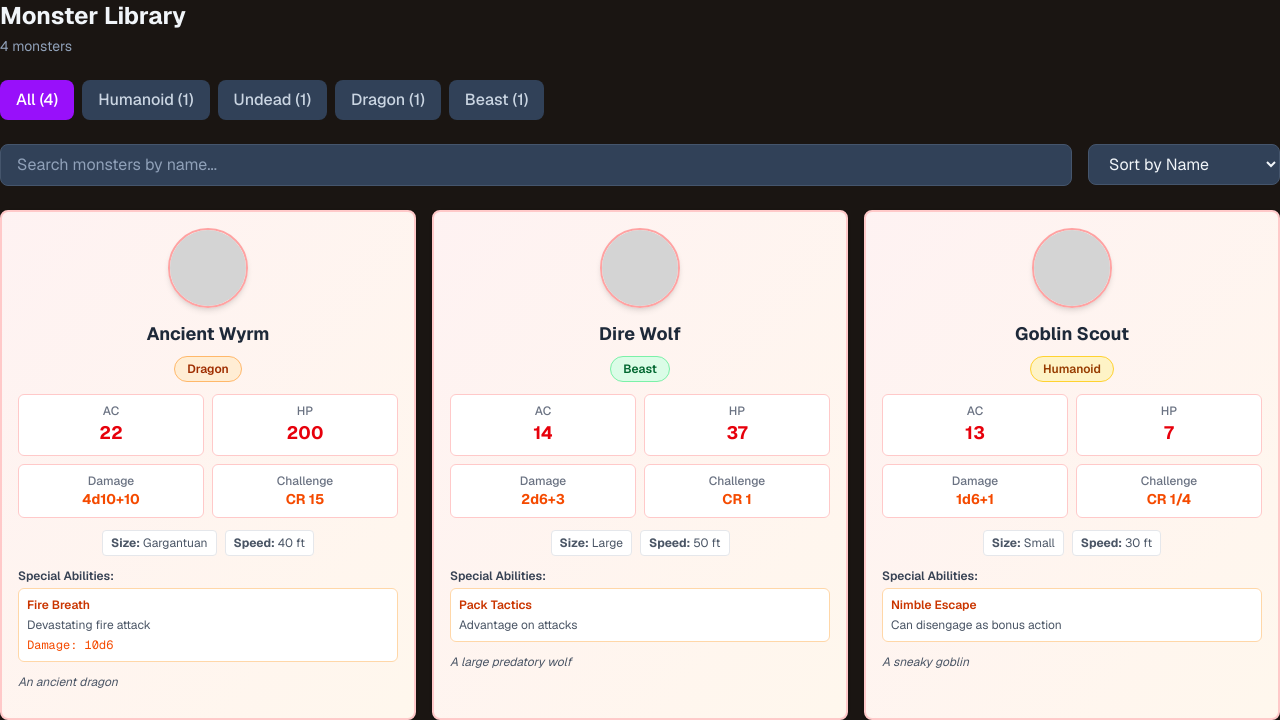
MonsterLibrary › Search Functionality › filters monsters by search query (case-insensitive)
Step 1. Type "goblin" into the field with placeholder "Search monsters by name..." → coordinates (536, 165), box [0, 144, 1072, 186]
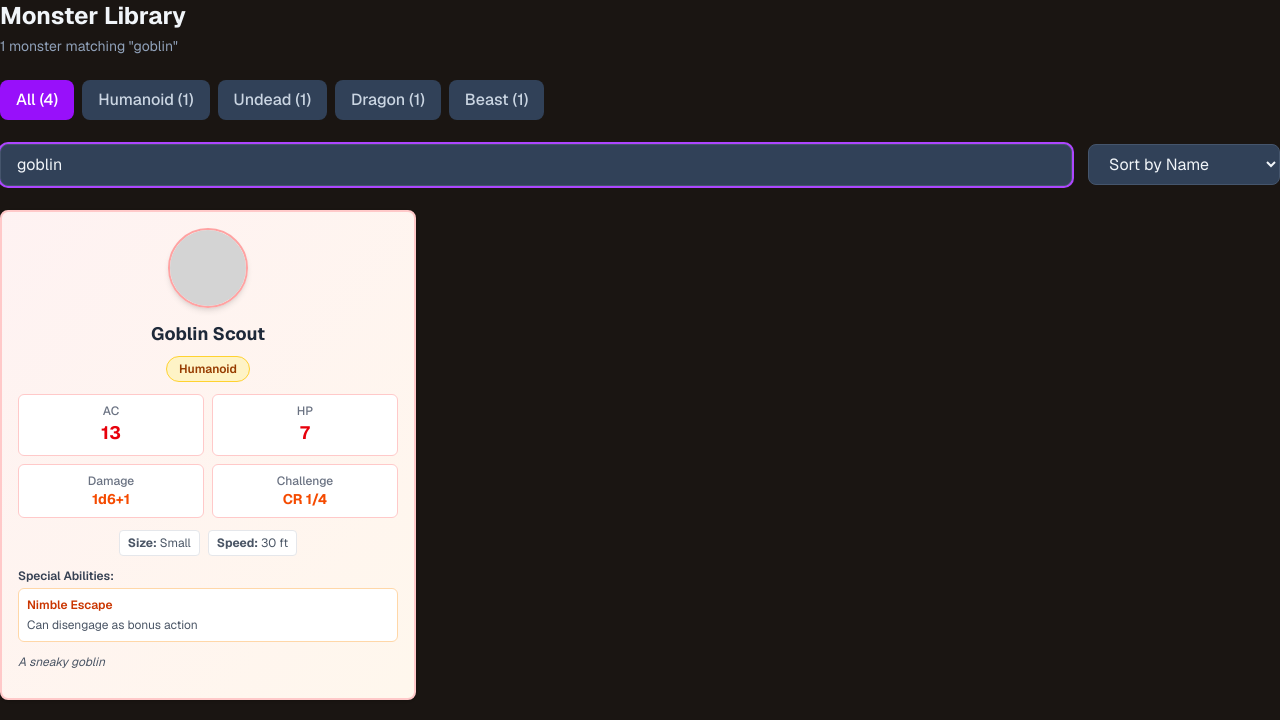
Expected: the heading "Goblin Scout" is shown, [151, 322, 265, 345]
Expected: the heading "Ancient Wyrm" is gone
